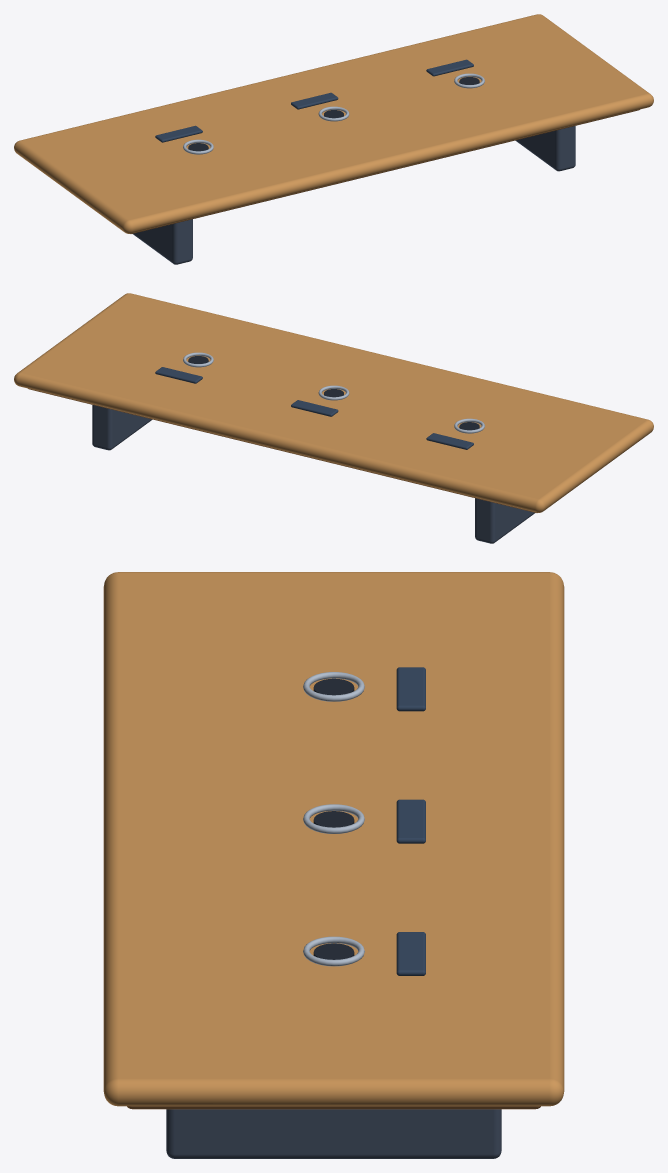
The model's file is meeting-table.glb.
3 views of the same model, one above another, from view 1: azimuth 30°, elevation 25°; view 2: azimuth 150°, elevation 25°; view 3: azimuth 270°, elevation 25° (orthographic). The views are drawn at different scales.
Visible parts, largest first — view 1: meeting-table; view 2: meeting-table; view 3: meeting-table.
Part boxes in pixels (bbox=[...]): meeting-table: bbox=[14, 14, 653, 264]; meeting-table: bbox=[14, 293, 653, 543]; meeting-table: bbox=[103, 572, 564, 1158].
Size of the model in its own units: 6.65 by 0.8921 by 2.5.
